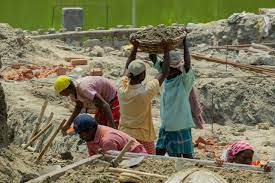arm: (77, 77, 117, 119), (81, 89, 115, 121), (119, 34, 141, 75)
face: (77, 127, 95, 141)
helmet: (51, 73, 75, 95), (125, 56, 147, 77)
human: (151, 27, 204, 160), (63, 111, 150, 166)
leg: (165, 128, 197, 159)
nohelmet: (73, 112, 98, 136), (124, 56, 147, 78)
novest: (156, 71, 197, 131), (117, 79, 154, 138)
vest: (89, 123, 131, 158)
